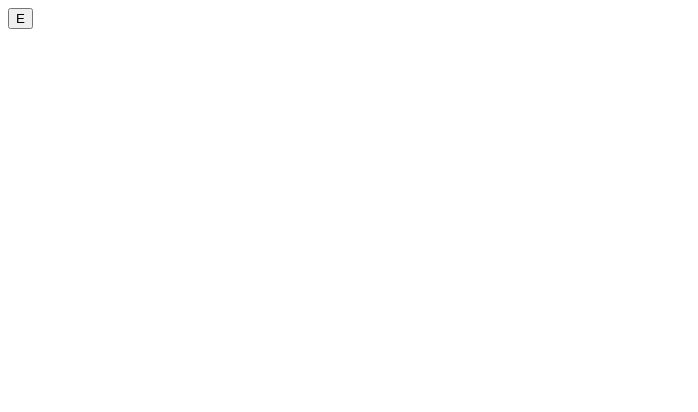
display components › Tooltip shows on focus, describes the trigger, and hides on Escape
The width and height of the screenshot is (698, 412).
Focus the button named "Edit" at (20, 18), box [8, 8, 33, 29]
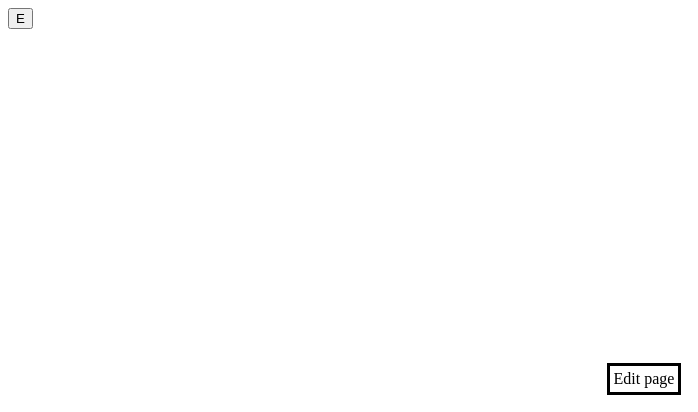
Now the tooltip reads "Edit page", box [614, 370, 674, 386]
Press Escape
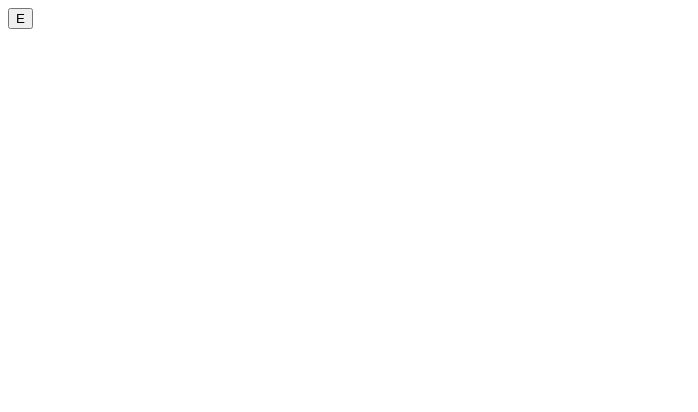
Now the tooltip "Edit page" is gone
